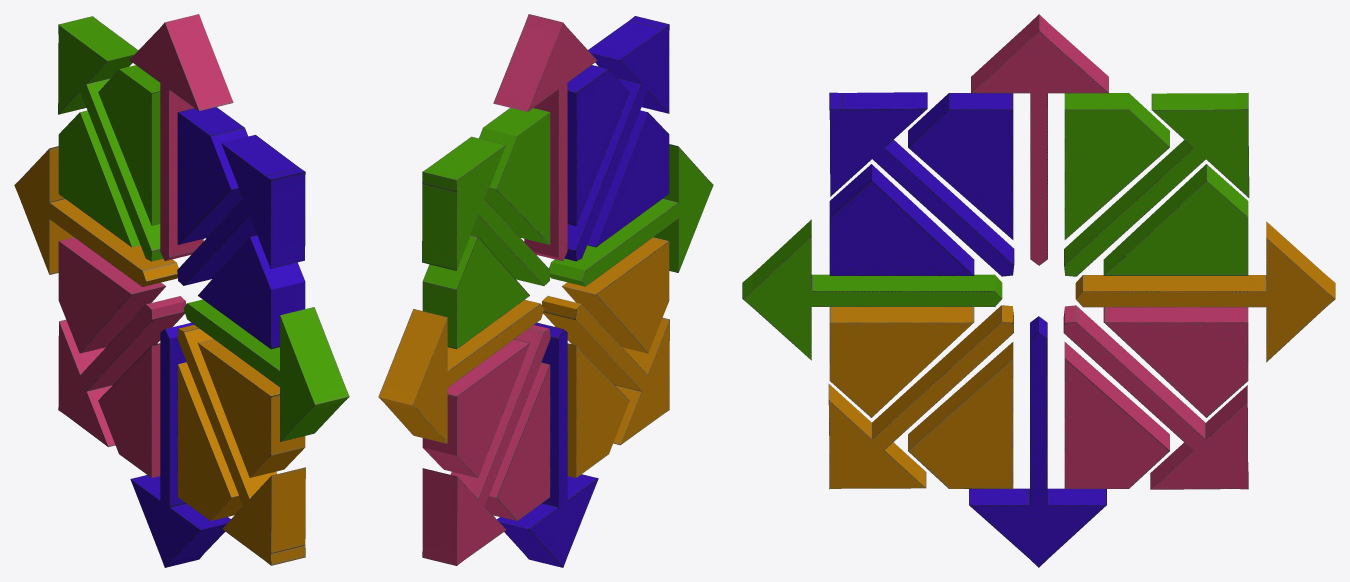
Rendered from centos.gltf.
The picture shows the model from 3 angles, left to right: view 1: azimuth 30°, elevation 25°; view 2: azimuth 150°, elevation 25°; view 3: azimuth 270°, elevation 25°; orthographic projection.
Parts seen in each view (by area): view 1: Plane; view 2: Plane; view 3: Plane.
Part boxes in pixels (<box>): Plane: <box>14,14,349,567</box>; Plane: <box>378,14,713,567</box>; Plane: <box>742,14,1335,567</box>.
Bounding box in the file's own units: 1.76 × 26.61 × 26.61.
1 material, 1 textured.
